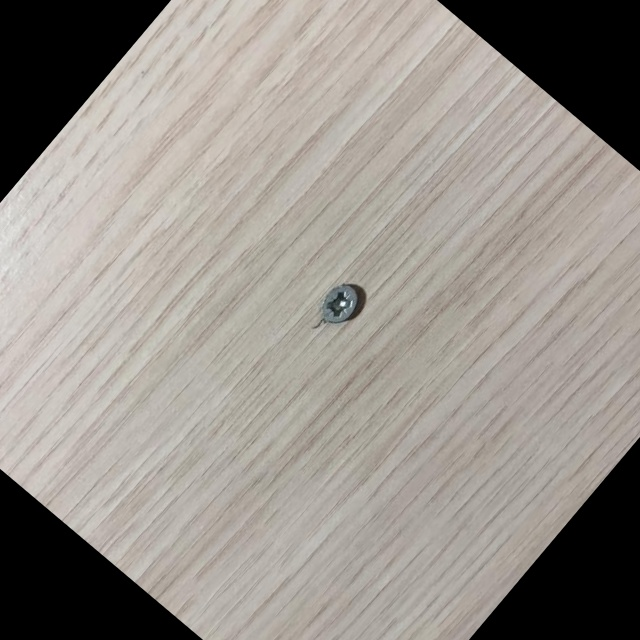pozidriv: (314, 278, 366, 331)
